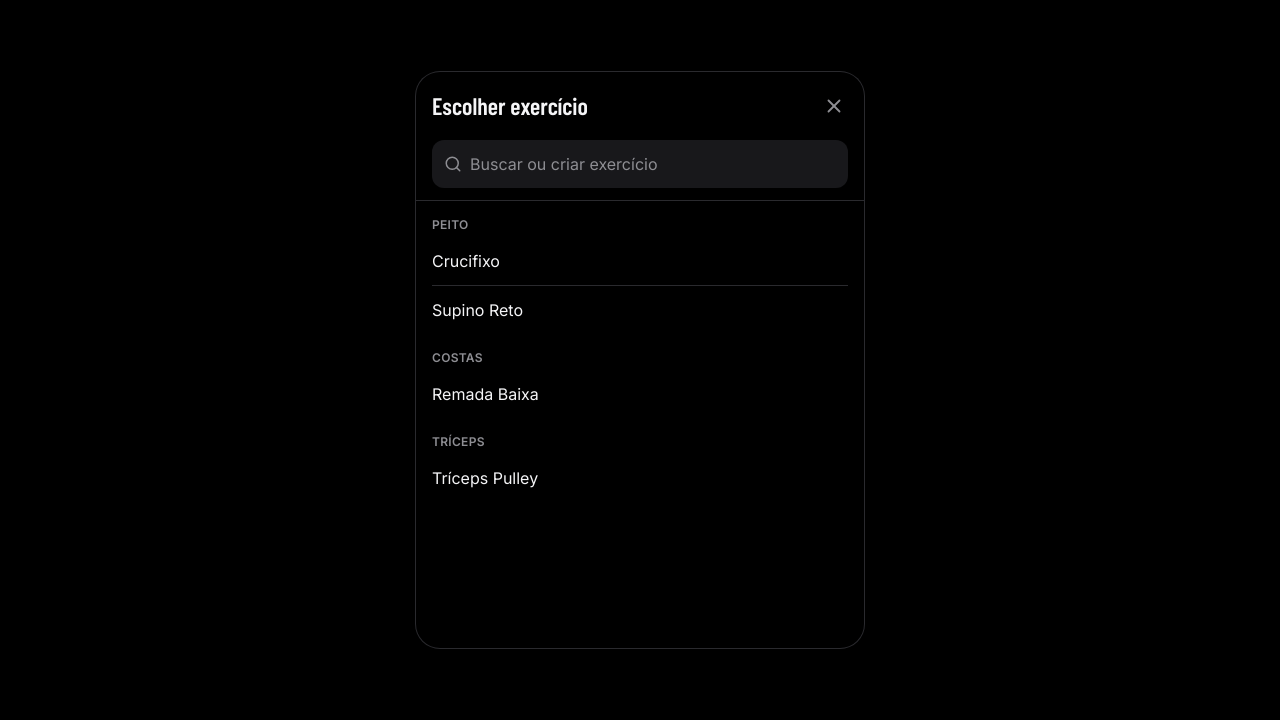
ExercisePickerModal › busca ignora acento e caixa
Expected: the text "Supino Reto" is shown, [432,300,523,320]
Type "TRICEPS" into the search field named "Buscar exercício" at (653, 164), box [470,140,836,188]
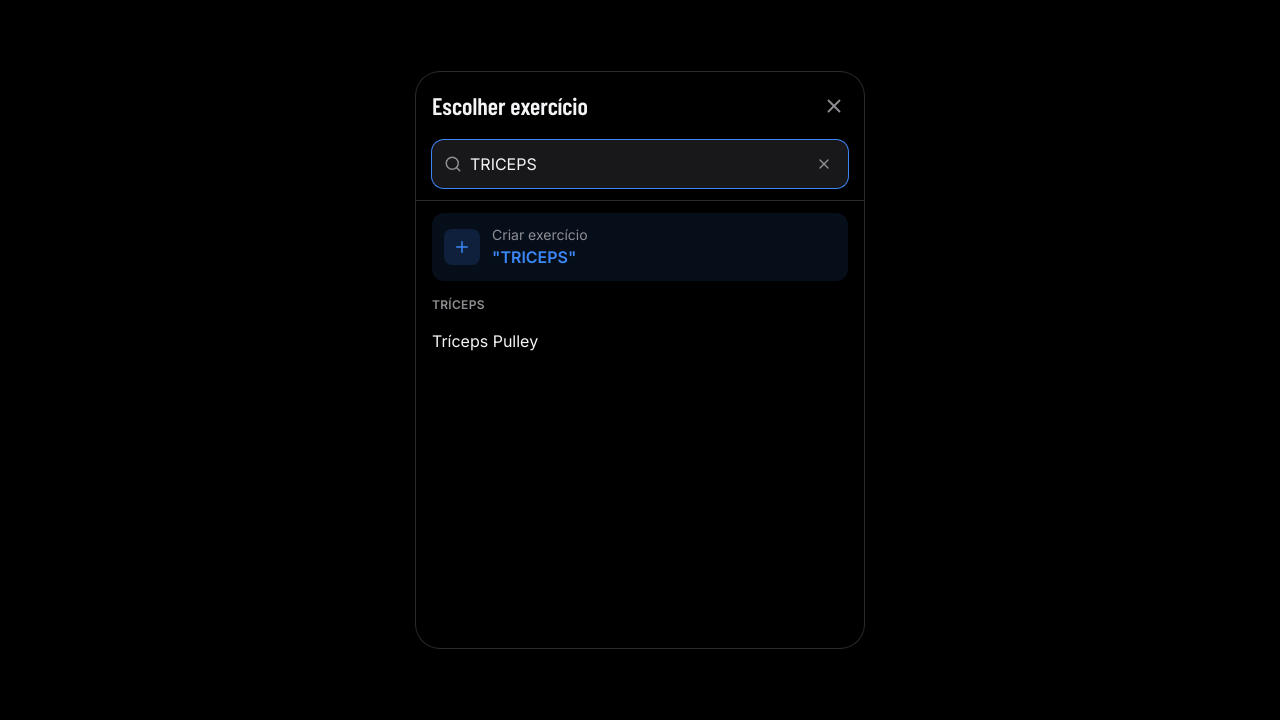
Expected: the text "Tríceps Pulley" is shown, [432,331,538,351]
Expected: the button "Supino Reto" is gone
